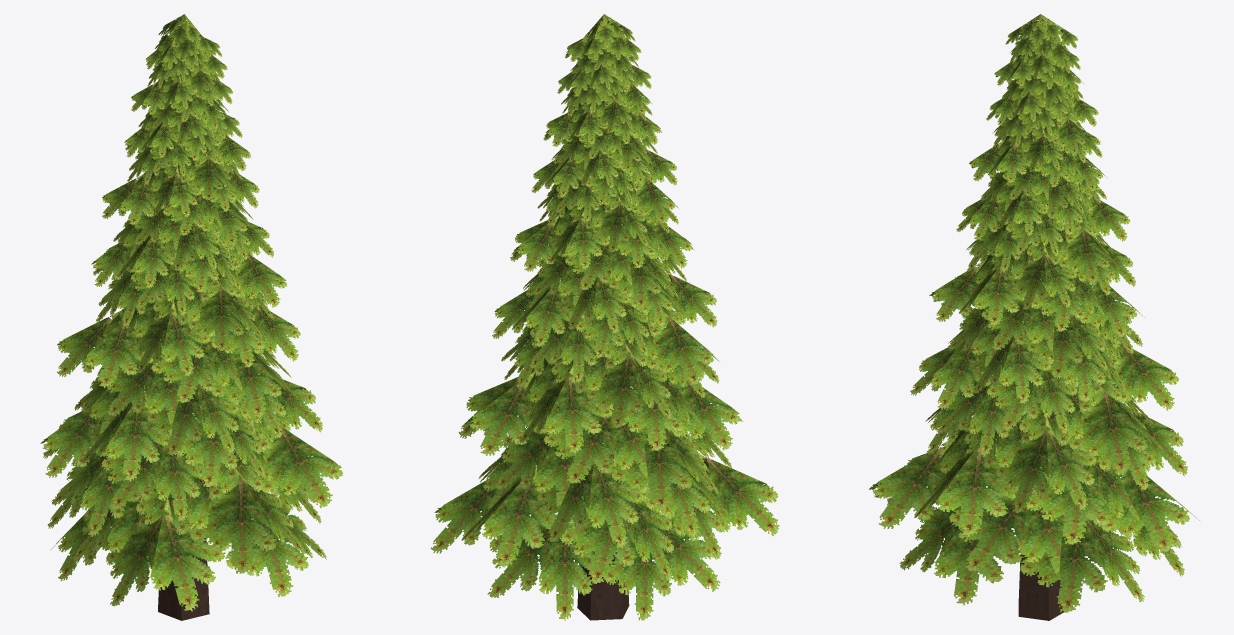
The model's file is tree.glb.
3 renders of one model, left to right at view 1: azimuth 30°, elevation 25°; view 2: azimuth 150°, elevation 25°; view 3: azimuth 270°, elevation 25°, orthographic.
Visible parts, largest first — view 1: tree; view 2: tree; view 3: tree.
Part boxes in pixels (left/top/right/bottom): tree: left=40, top=14, right=343, bottom=620; tree: left=430, top=14, right=779, bottom=620; tree: left=869, top=14, right=1199, bottom=620.
Bounding box in the file's own units: 6.33 × 12.01 × 6.99.
Materials: 2 (2 with a texture image).
